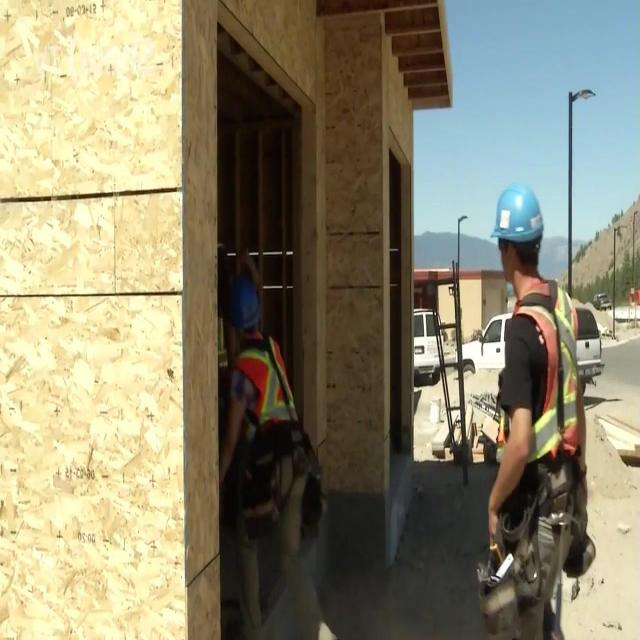Reflective-Jacket: (479, 278, 602, 538), (220, 335, 314, 507)
Safety-Helmet: (484, 169, 552, 259), (222, 268, 270, 342)
